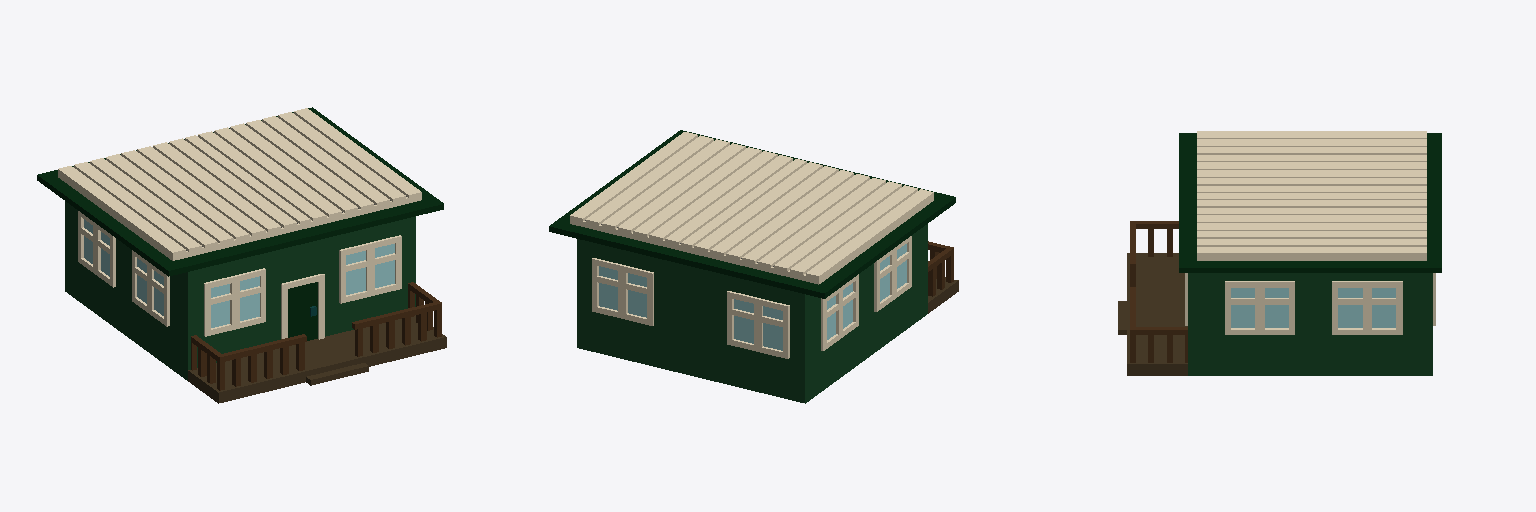
The picture shows the model from 3 angles: view 1: azimuth 30°, elevation 25°; view 2: azimuth 150°, elevation 25°; view 3: azimuth 270°, elevation 25°; orthographic projection.
Parts seen in each view (by area): view 1: object 1; view 2: object 1; view 3: object 1.
Boxes of the visible parts, box(x1,y1,x2,y2) form: object 1: box(37, 107, 446, 403); object 1: box(549, 130, 958, 403); object 1: box(1118, 131, 1441, 375).
Size of the model in its own units: 10.4 by 4.6 by 10.6.
1 materials, 1 textured.